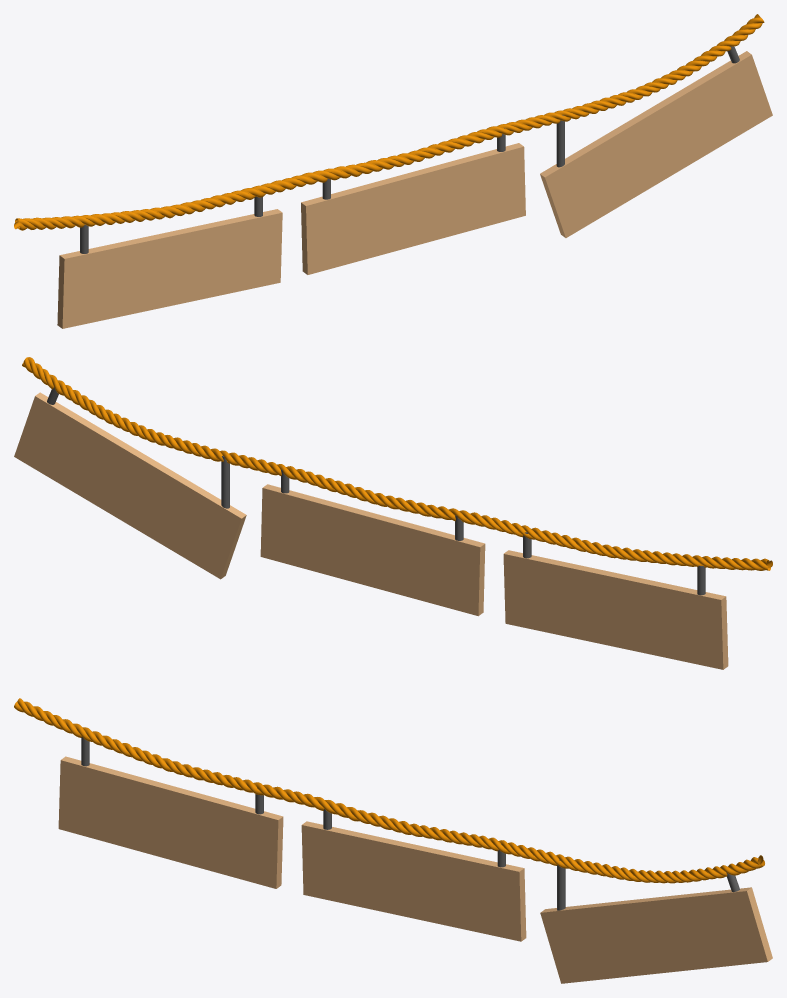
The model's file is gantungan.fbx.
The picture shows the model from 3 angles, top to bottom: view 1: azimuth 30°, elevation 25°; view 2: azimuth 150°, elevation 25°; view 3: azimuth 330°, elevation 25°; orthographic projection.
Parts seen in each view (by area): view 1: Cube.002, Cube.001, Cube, Circle.002; view 2: Cube.002, Cube.001, Cube, Circle.002; view 3: Cube, Cube.001, Cube.002, Circle.002.
Boxes of the visible parts, bbox=[...] form: Cube.002: bbox=[540, 51, 772, 237]; Cube.001: bbox=[301, 143, 525, 274]; Cube: bbox=[57, 209, 282, 328]; Circle.002: bbox=[14, 14, 764, 230]; Cube.002: bbox=[14, 392, 246, 579]; Cube.001: bbox=[260, 484, 485, 616]; Cube: bbox=[503, 550, 728, 669]; Circle.002: bbox=[22, 357, 772, 570]; Cube: bbox=[58, 756, 283, 888]; Cube.001: bbox=[301, 821, 526, 941]; Cube.002: bbox=[540, 887, 772, 983]; Circle.002: bbox=[14, 698, 764, 883].
Size of the model in its own units: 351 by 77.26 by 5.77.
